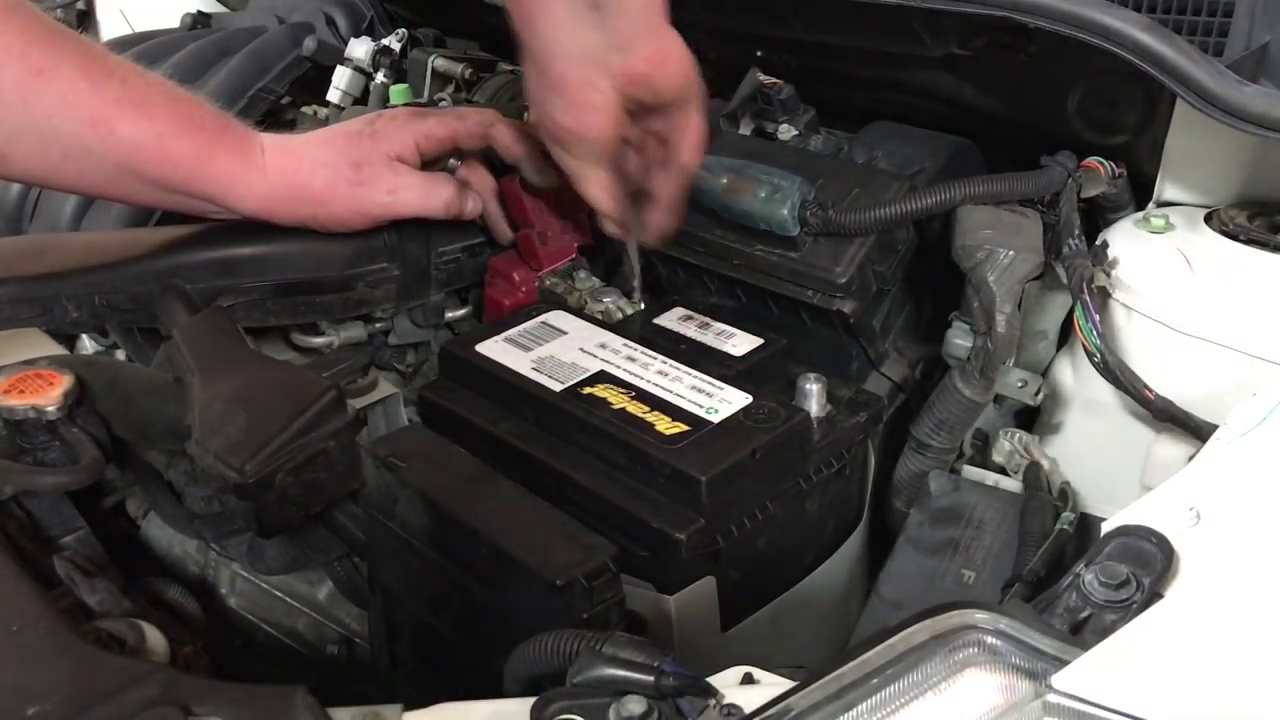battery: (442, 275, 867, 476)
neg_disconnected: (744, 335, 860, 448)
pos_touched: (408, 110, 688, 316)
